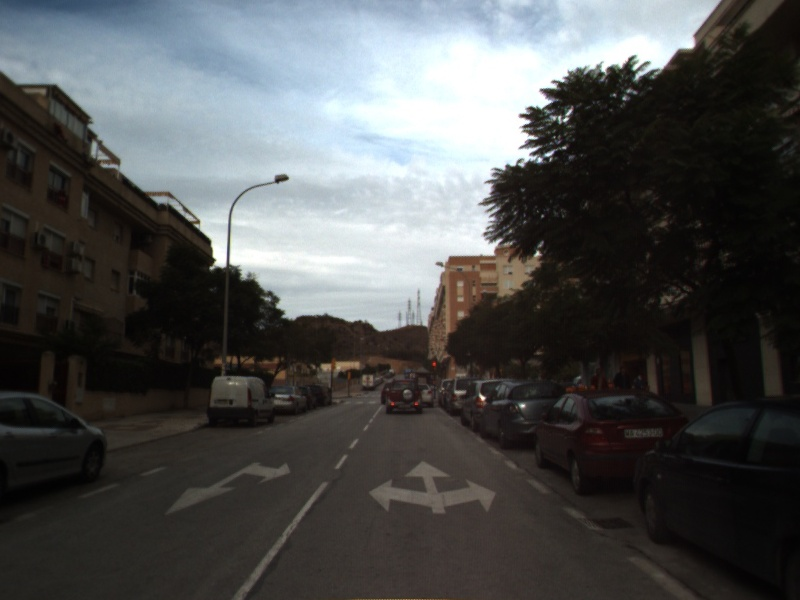STRAIGHT_LEFT_RIGHT: (367, 458, 498, 516)
